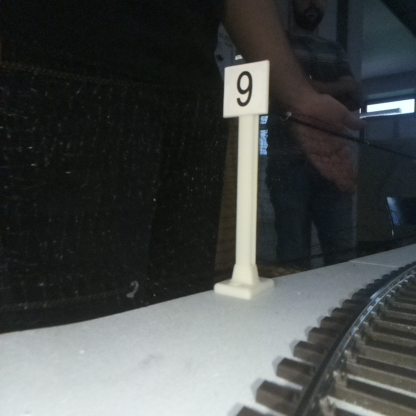white-info-9: (224, 61, 268, 292)
